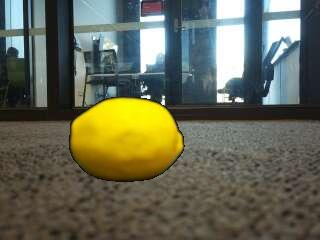lemon: (72, 97, 184, 179)
